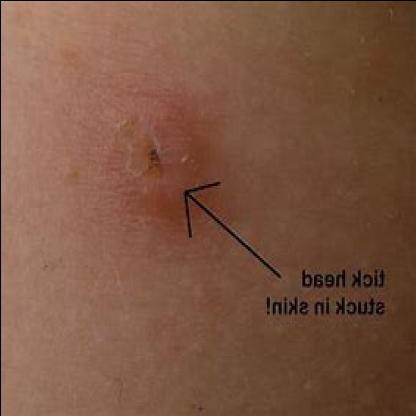Fire ant: (130, 186, 216, 238), (150, 120, 216, 180), (167, 242, 214, 284), (219, 146, 238, 204), (254, 204, 267, 236)
